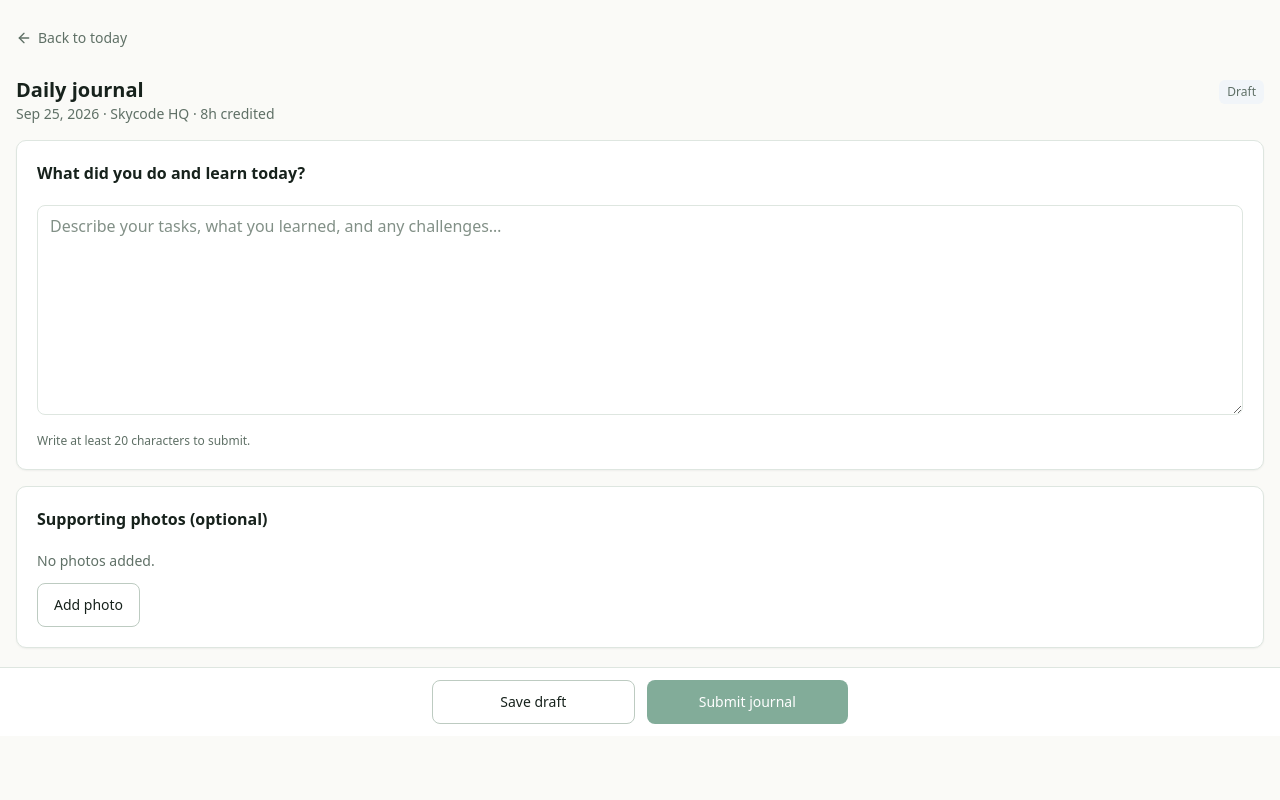
Test: JournalPage (trainee) › loads a draft journal, saves a draft, then submits
The image size is (1280, 800).
expect the heading "Daily journal" is shown: met, box [16,76,144,103]
Type "Tested the API and wrote documentation for the feature." into the text box named "Journal narrative".
click(640, 310); type("Tested the API and wrote documentation for the feature.")  # box [37,205,1243,415]
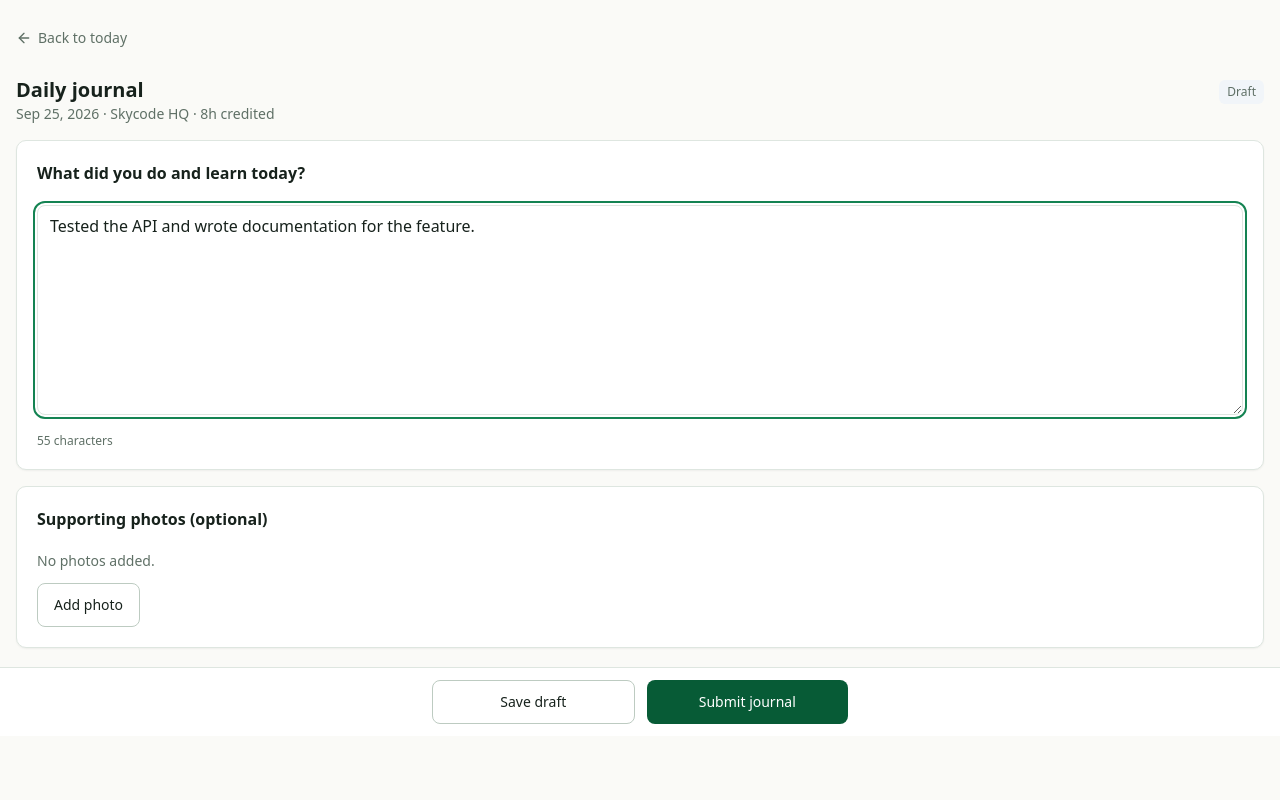
Click the button "Save draft".
click(533, 702)  # box [432,680,635,724]
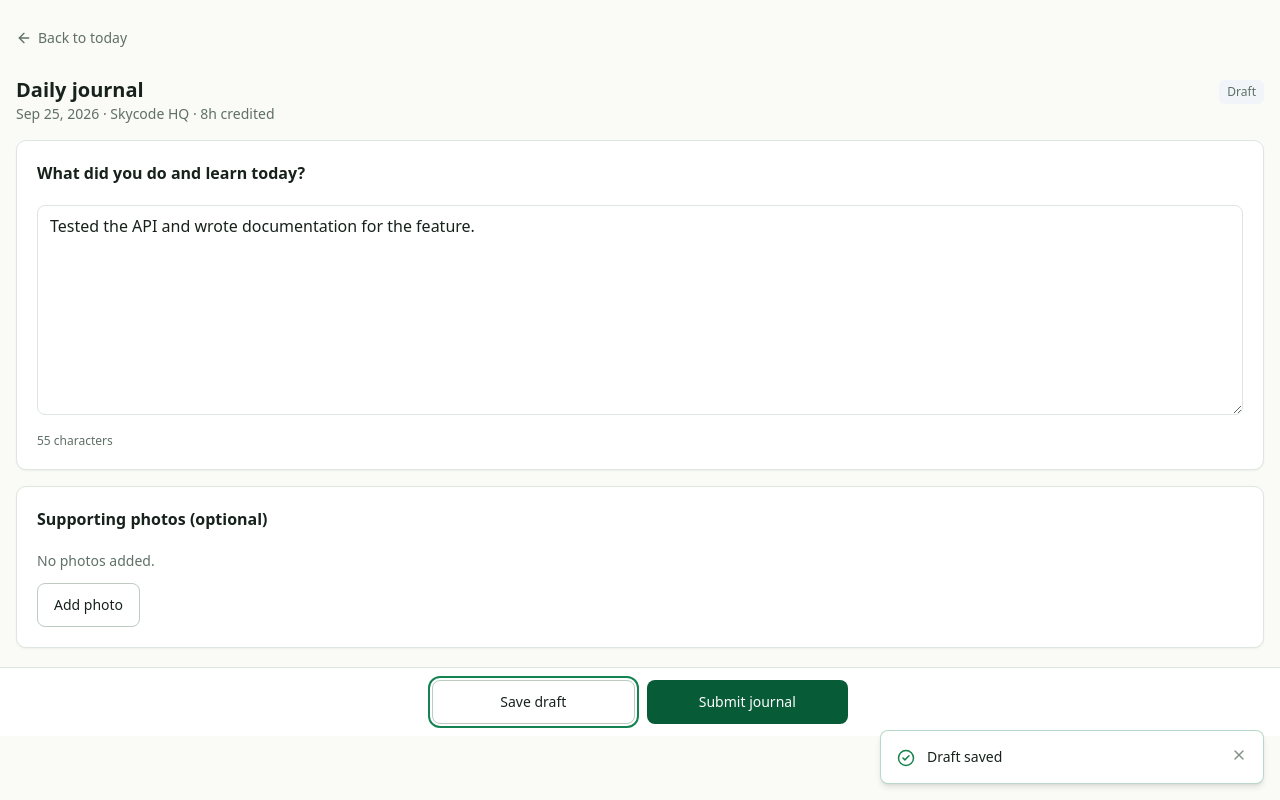
expect the text "Draft saved" is shown: met, box [927,747,1002,766]
Click the button "Submit journal".
click(747, 702)  # box [647,680,848,724]
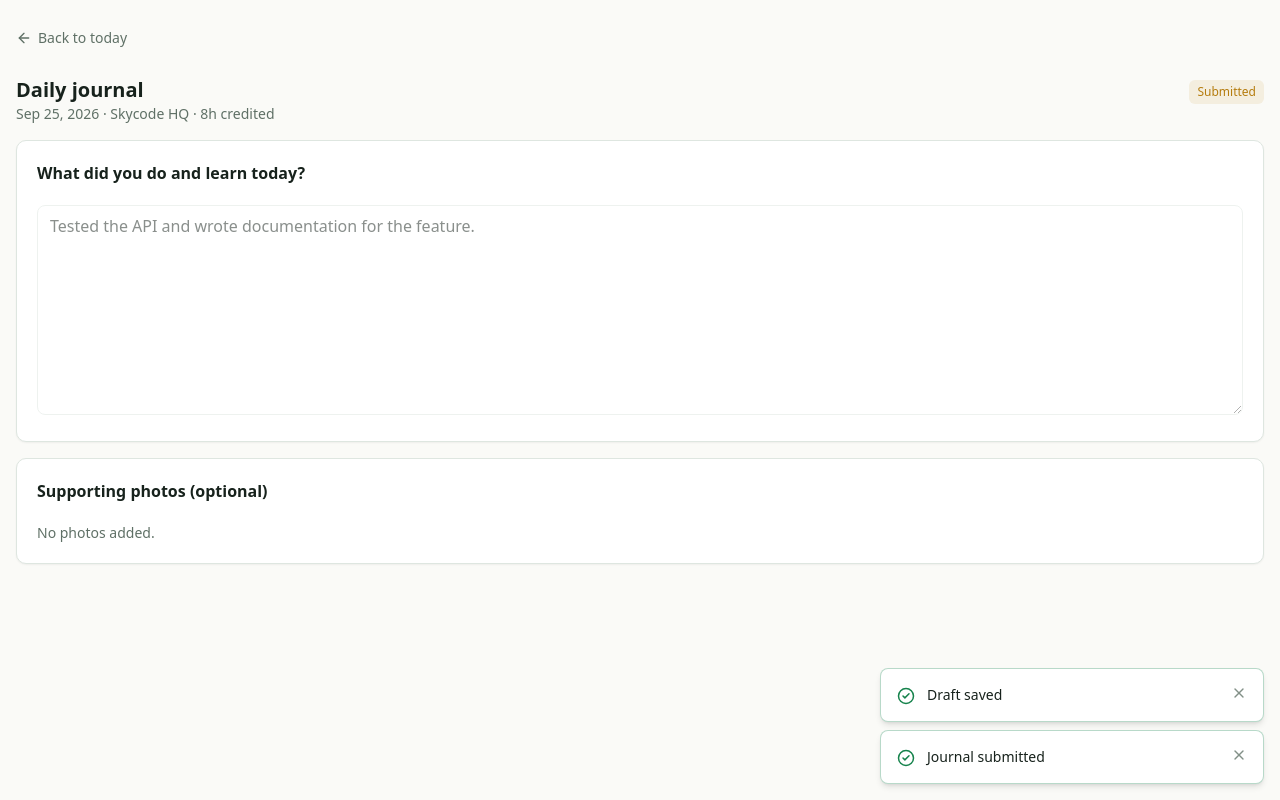
expect the text "Submitted" is shown: met, box [1190,80,1264,104]
expect the button "Submit journal" is gone: met
expect the text box named "Journal narrative" is disabled: met, box [37,205,1243,415]
